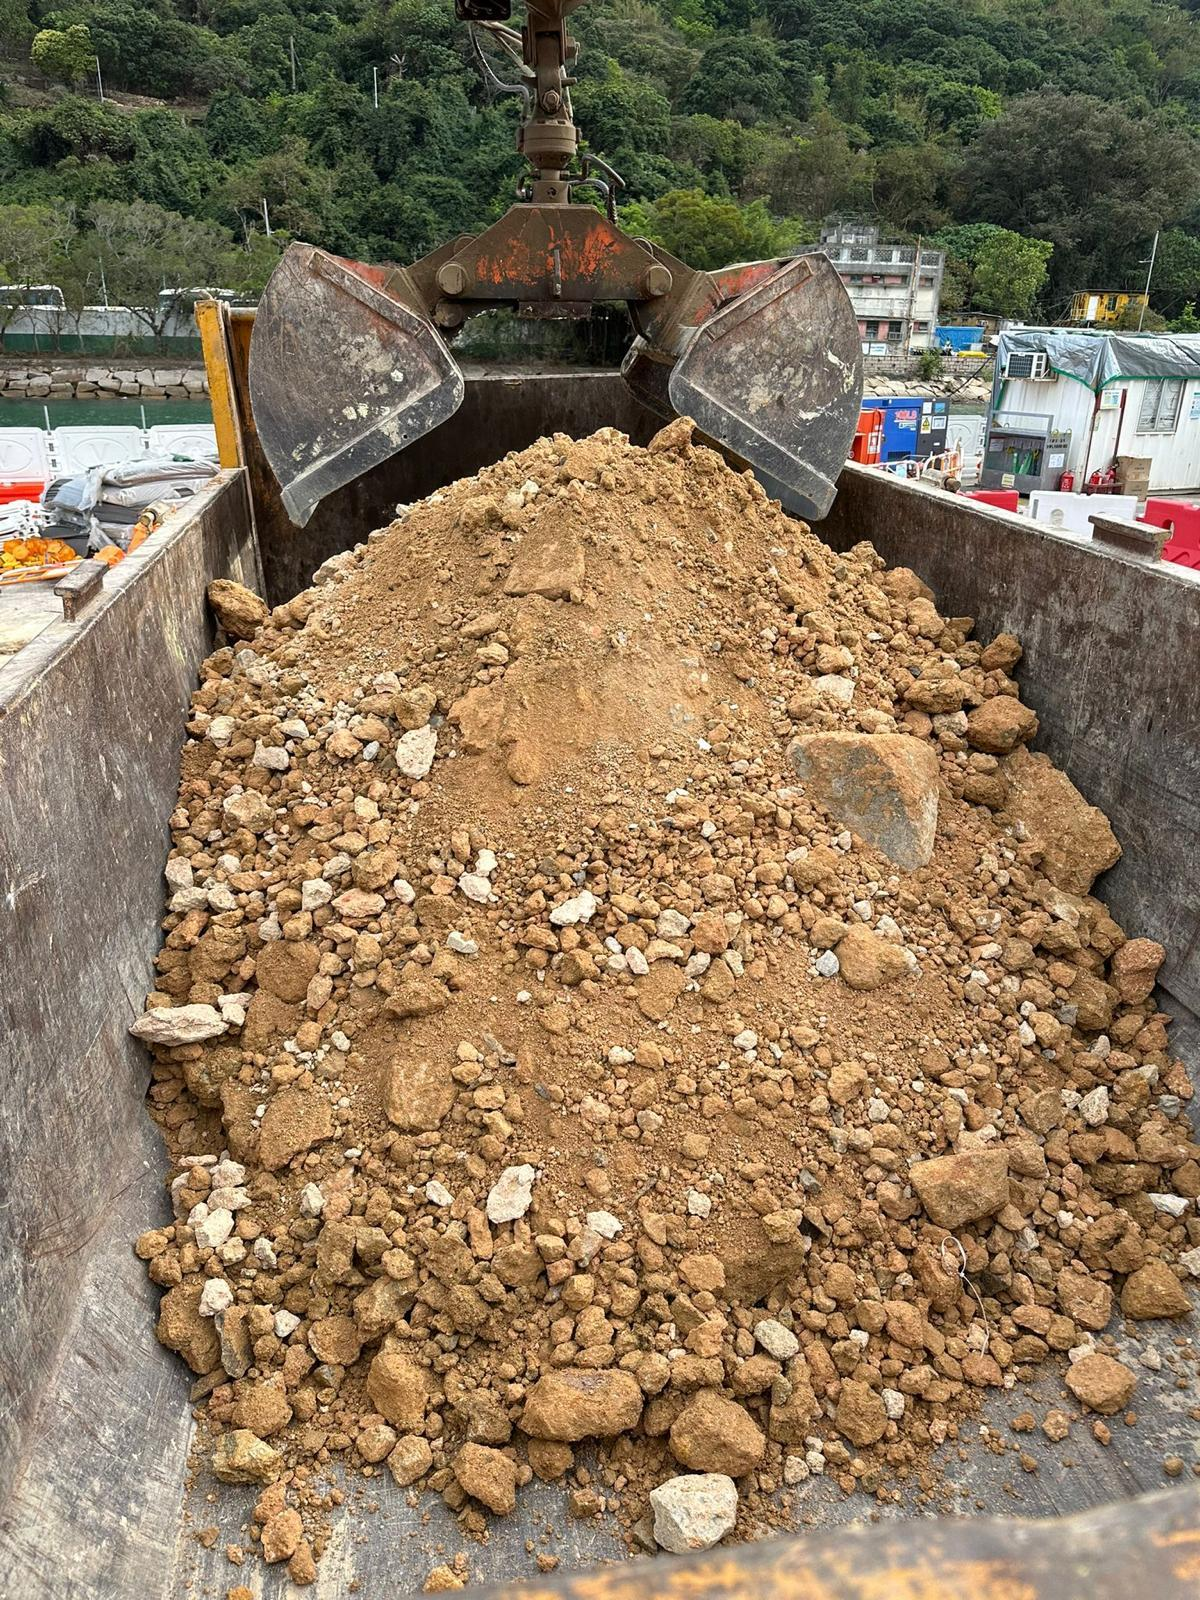dry: (175, 452, 1172, 1407)
